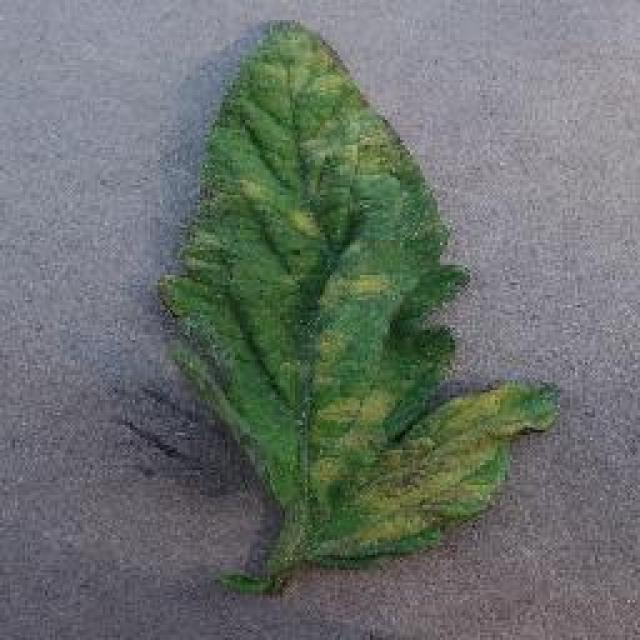Tomato mold leaf: (164, 19, 561, 604)
